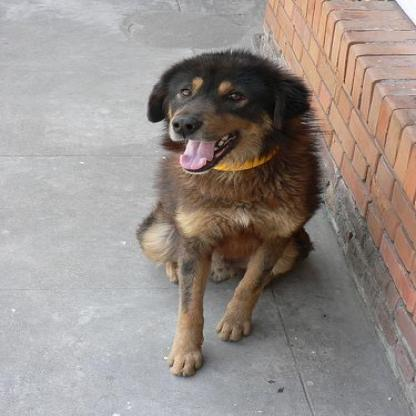Tibetan_mastiff: (132, 45, 324, 378)
